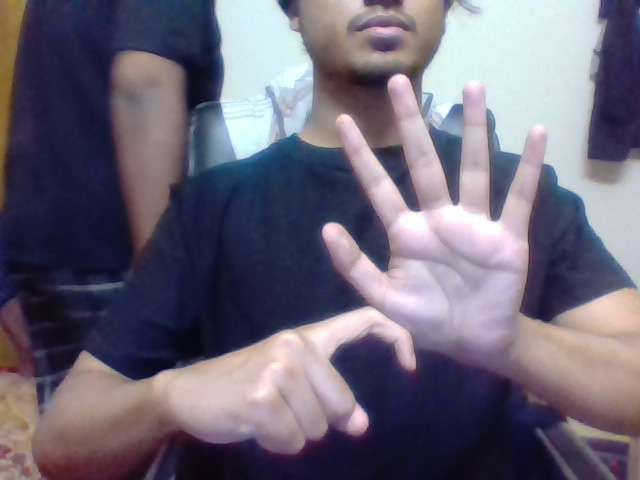R: (300, 304, 419, 438)
